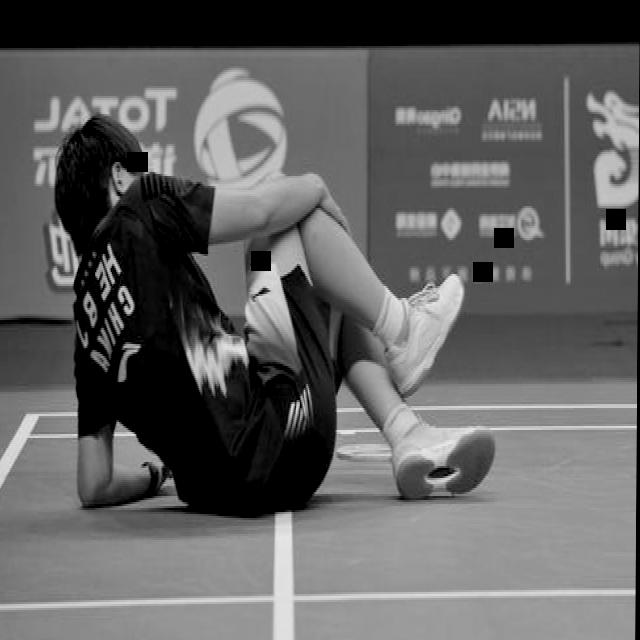Fall-Detected: (62, 84, 502, 510)
